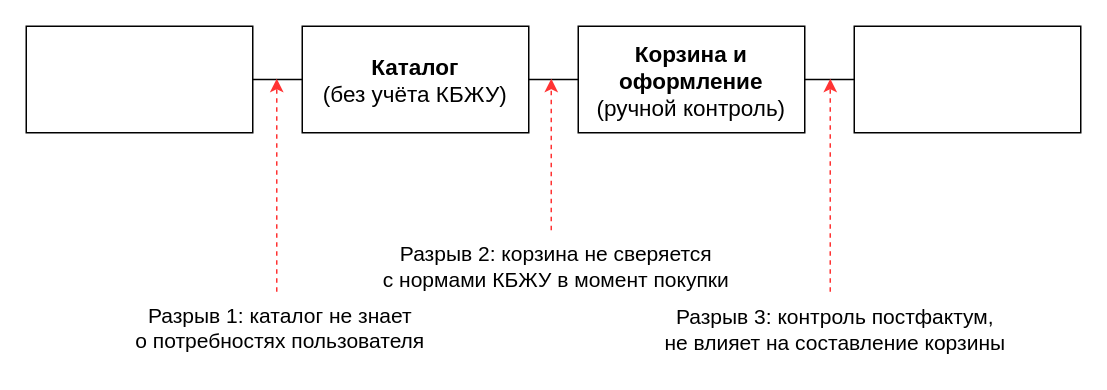
This 1107x390 diagram has some shape labels left out. The box of each missing label's shape, as (x1, y1, x2, y2) in pixels:
Потребность пользователя (нормы КБЖУ): (25, 25, 253, 133)
Учёт КБЖУ (фитнес трекер) (после потребления): (853, 25, 1081, 133)
